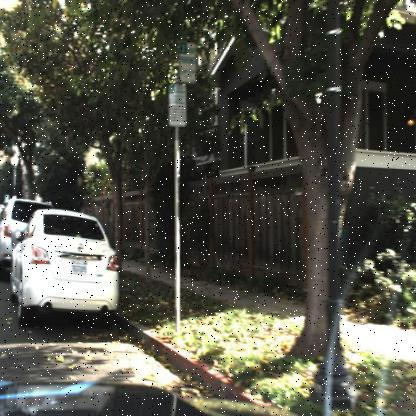car: (9, 206, 121, 328), (0, 192, 29, 270)
